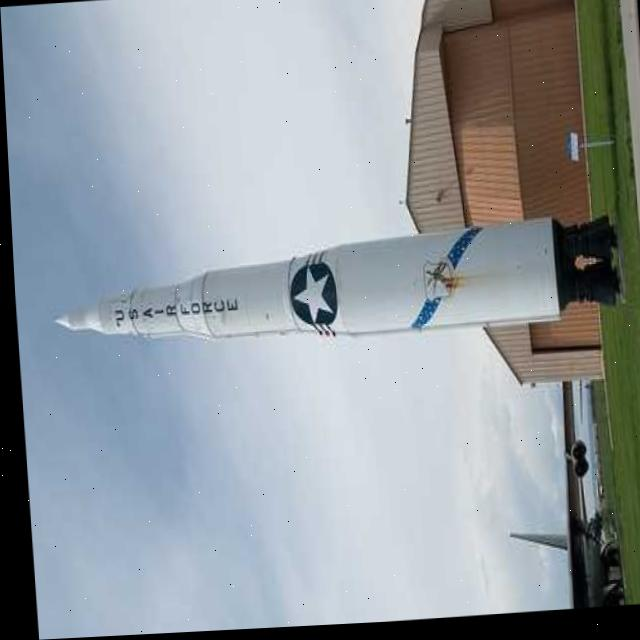missile: (44, 202, 622, 360)
